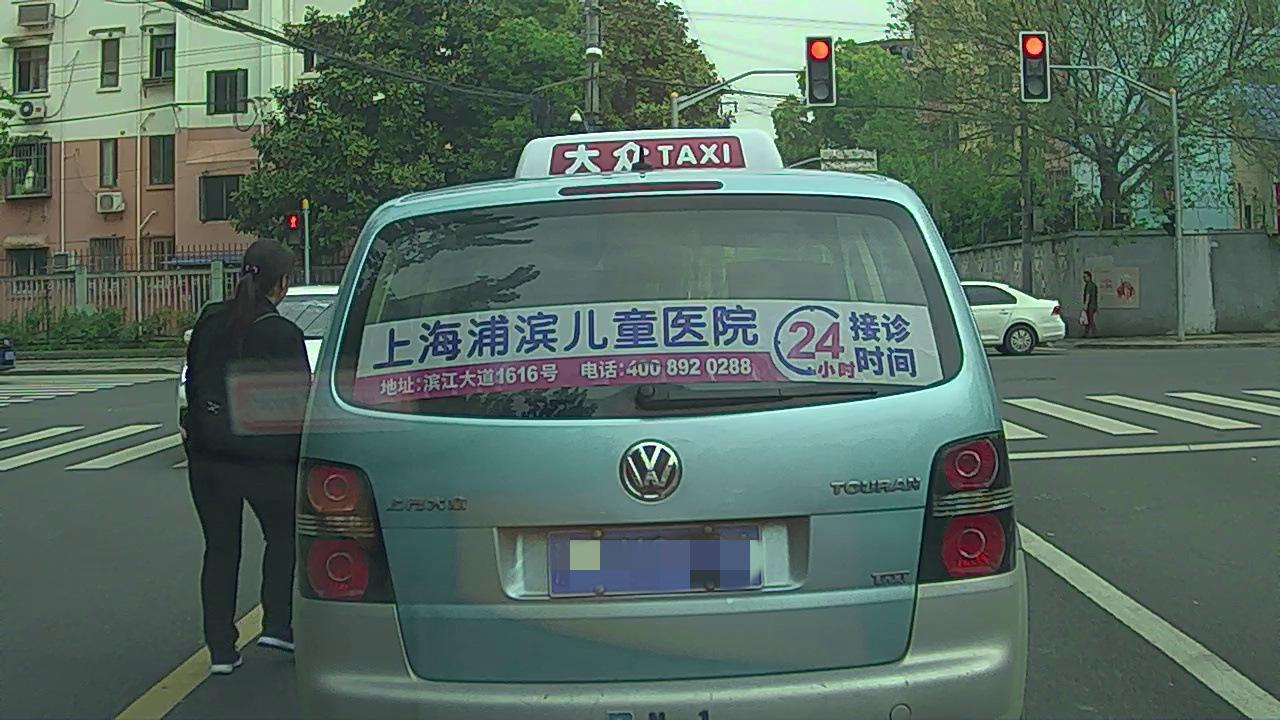traffic_light: (806, 37, 836, 105), (1020, 30, 1049, 100)
